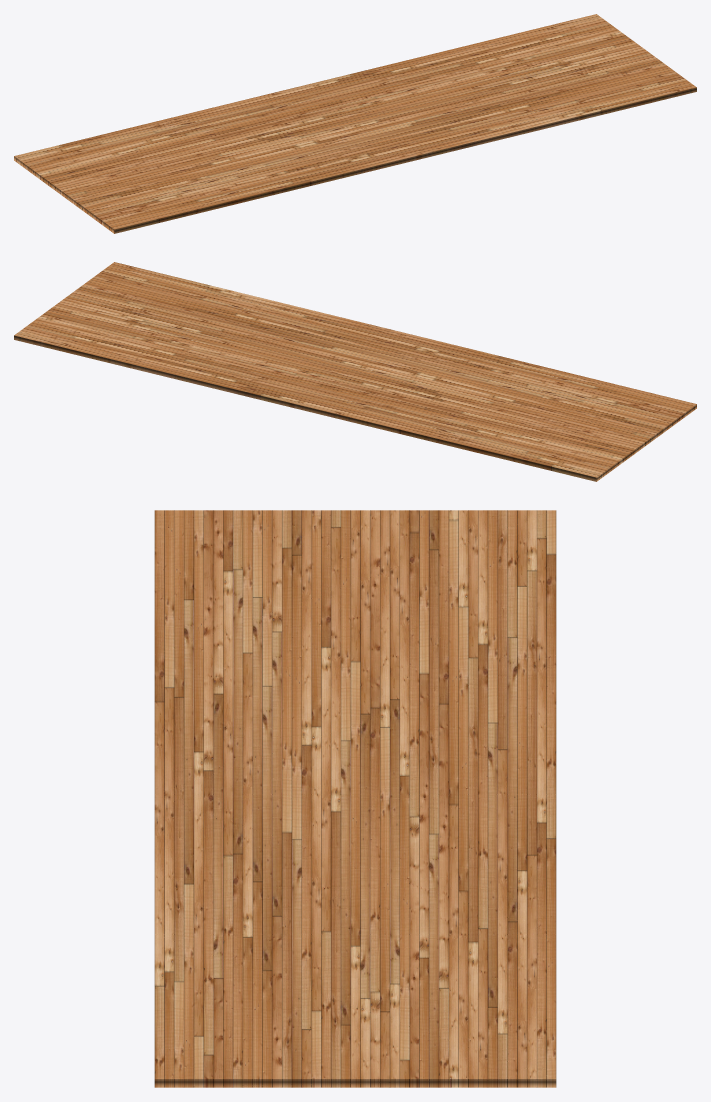
Rendered from buildingv3_topfloor.fbx.
The picture shows the model from 3 angles, top to bottom: view 1: azimuth 30°, elevation 25°; view 2: azimuth 150°, elevation 25°; view 3: azimuth 270°, elevation 25°; orthographic projection. The views are drawn at different scales.
Parts seen in each view (by area): view 1: polySurface18; view 2: polySurface18; view 3: polySurface18.
Part boxes in pixels (bbox=[...]): polySurface18: bbox=[14, 14, 696, 233]; polySurface18: bbox=[14, 262, 696, 481]; polySurface18: bbox=[154, 510, 556, 1087].
Bounding box in the file's own units: 207 × 1.47 × 61.65.
